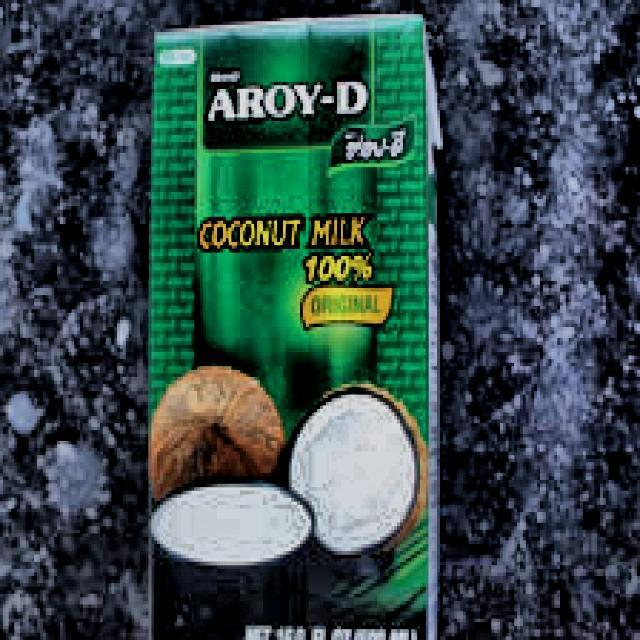cardboard: (145, 10, 440, 640)
